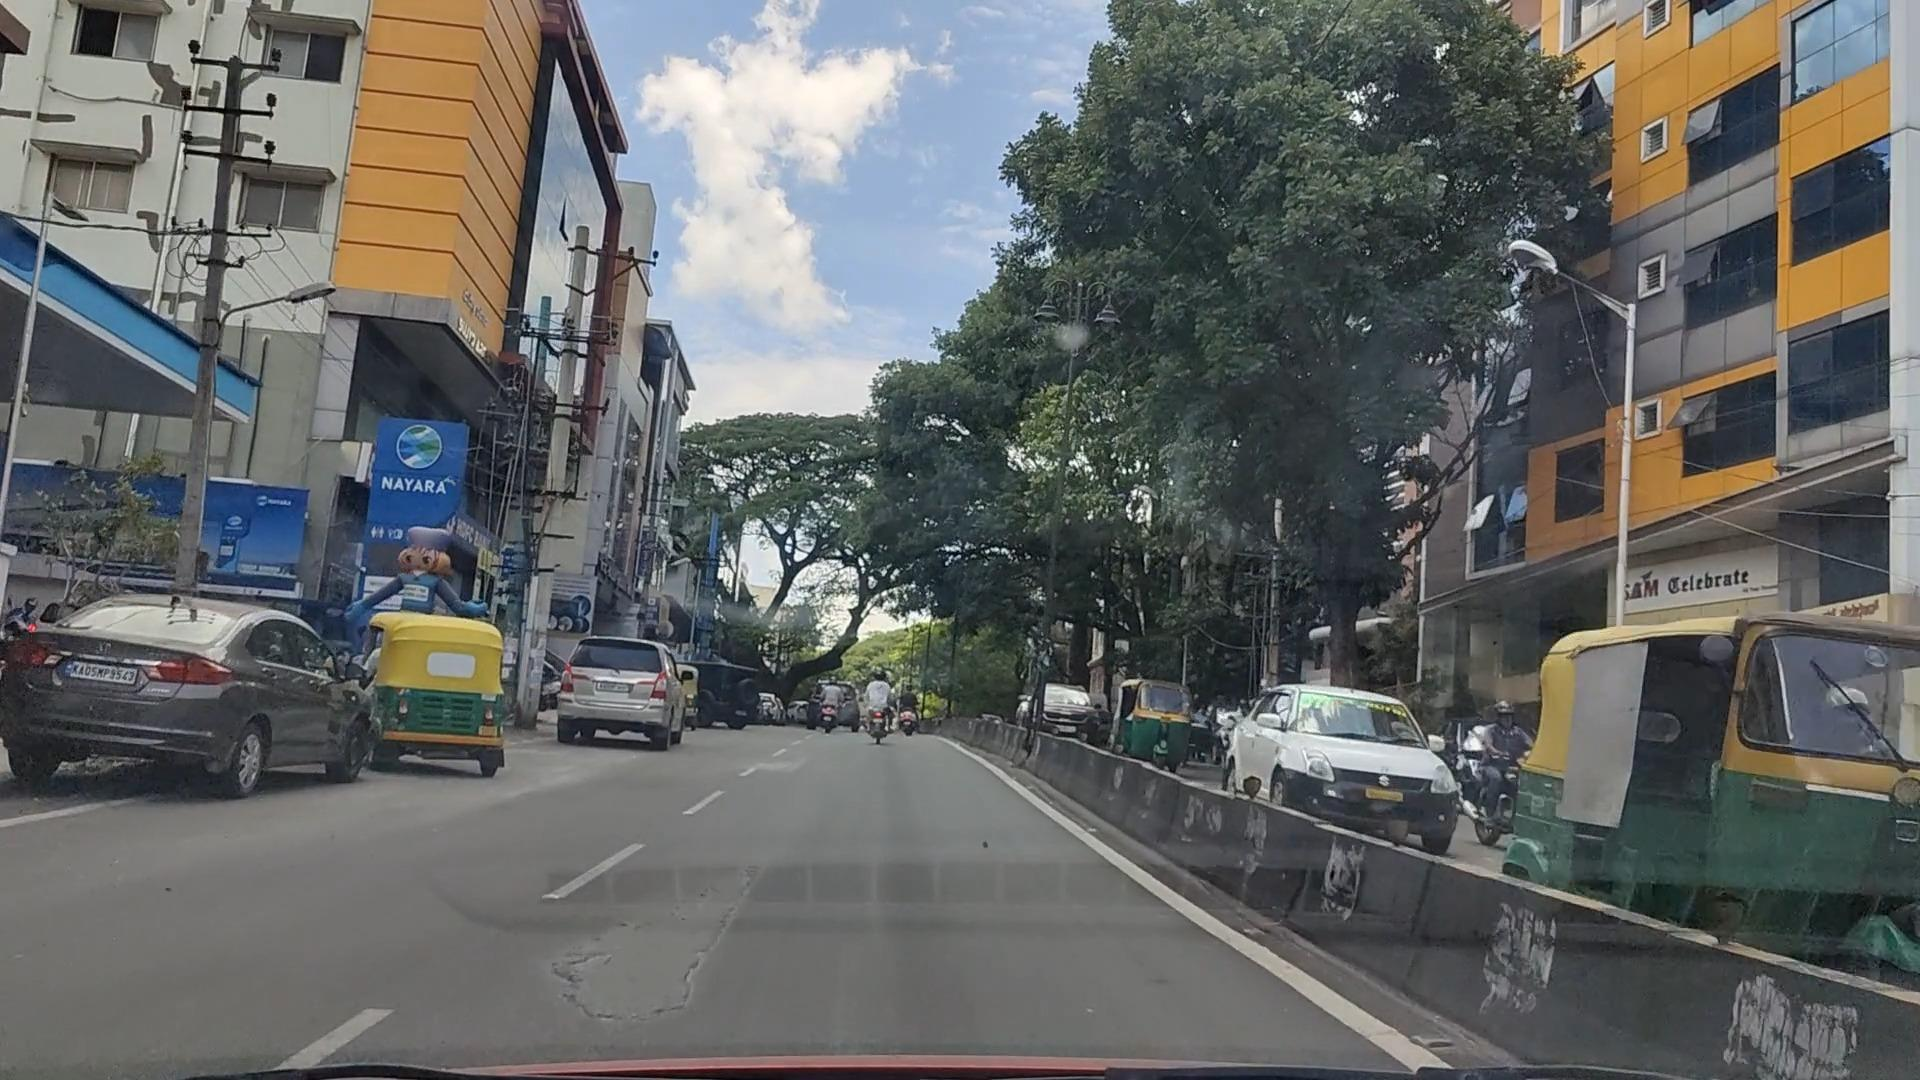LMV: (30, 608, 357, 786), (349, 618, 496, 758)
RoadDamages: (535, 857, 760, 1048)
